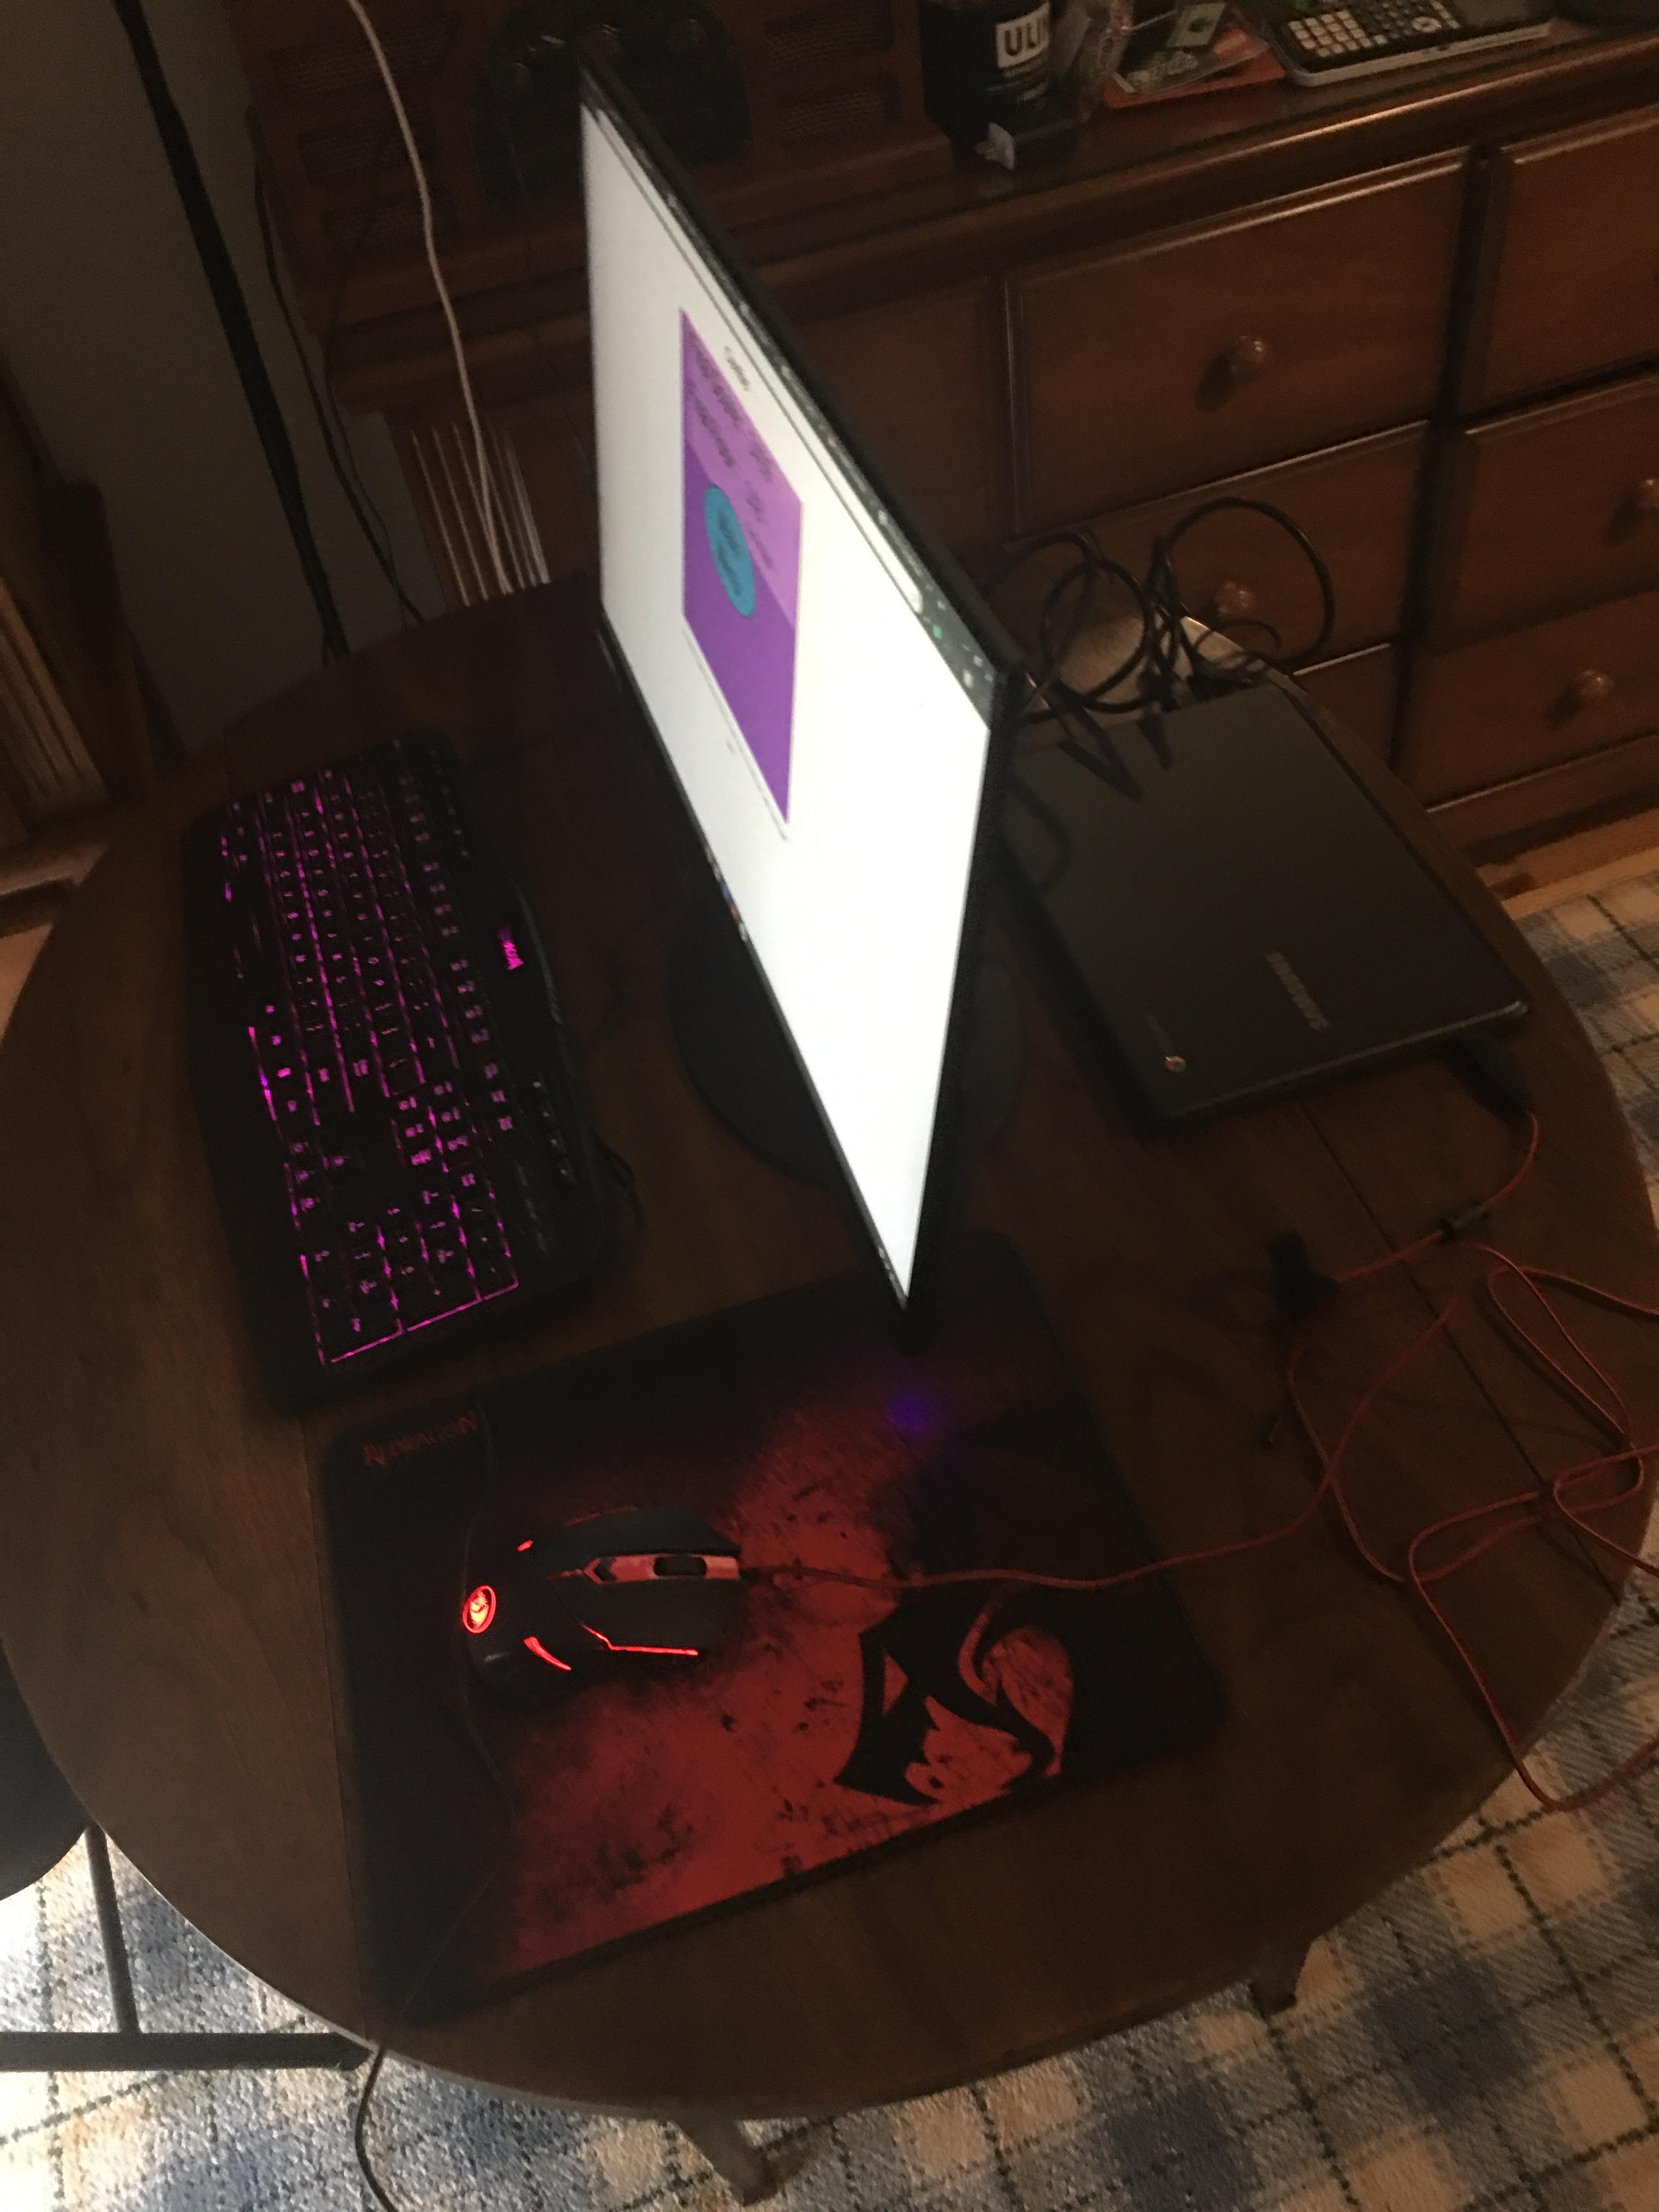Desk (Generic): (10, 474, 1645, 2189)
Keyboard (Gaming): (164, 721, 647, 1423)
Laptop (Generic): (995, 601, 1561, 1177)
Monitor (Landscape): (519, 10, 1040, 1379)
Mouse (Gaming): (429, 1489, 775, 1730)
Mousepad (Gaming): (289, 1184, 1281, 2008)
